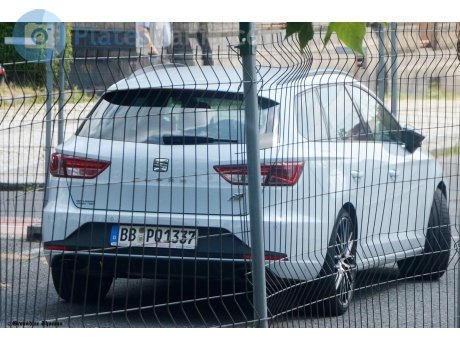License Plates: (120, 226, 193, 247)
